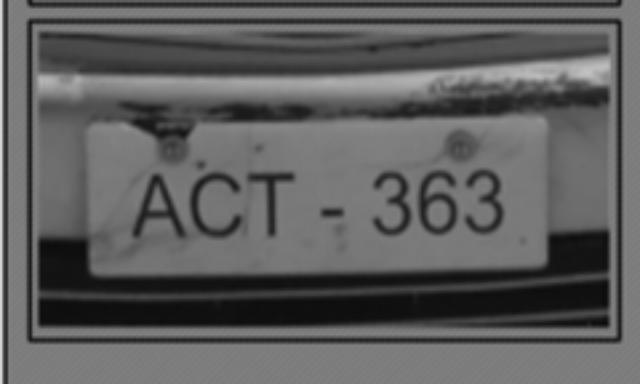Number: (130, 168, 510, 242)
